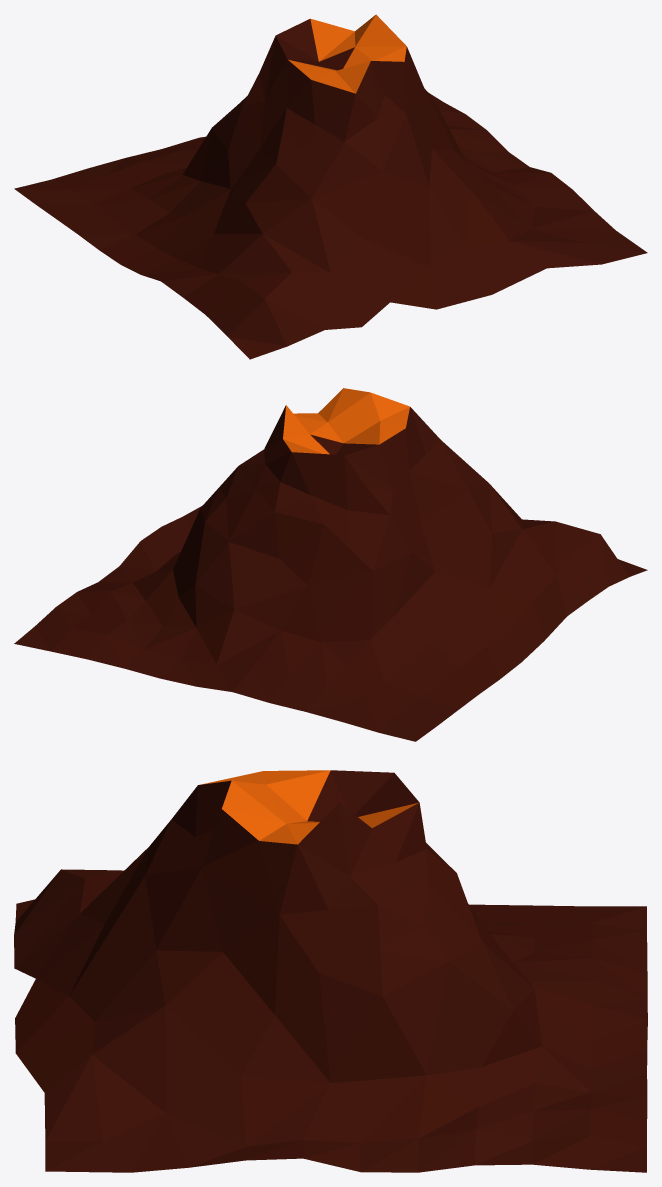
Rendered from volcano.glb.
3 views of the same model, one above another, from view 1: azimuth 30°, elevation 25°; view 2: azimuth 150°, elevation 25°; view 3: azimuth 270°, elevation 25° (orthographic). The views are drawn at different scales.
Parts seen in each view (by area): view 1: Plane; view 2: Plane; view 3: Plane.
Boxes of the visible parts, x1,y1,x2,y2 form: Plane: (14, 14, 647, 359); Plane: (14, 388, 647, 741); Plane: (14, 770, 647, 1172).
Size of the model in its own units: 142 by 65.3 by 142.
